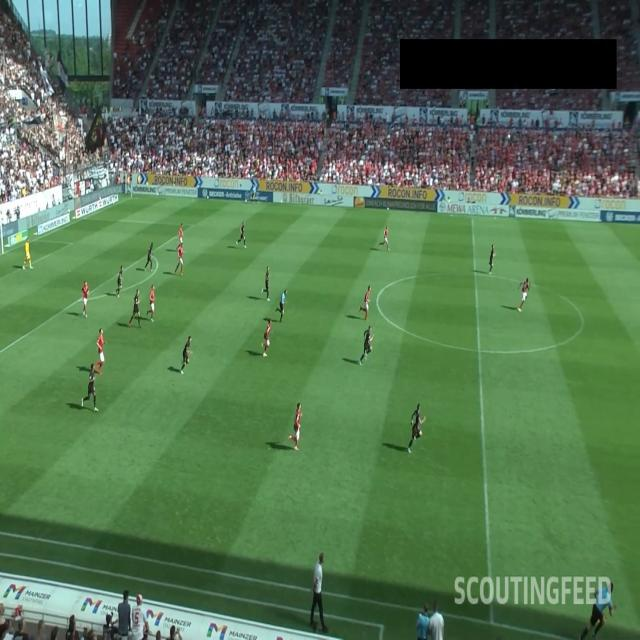ball: (508, 134, 510, 138)
